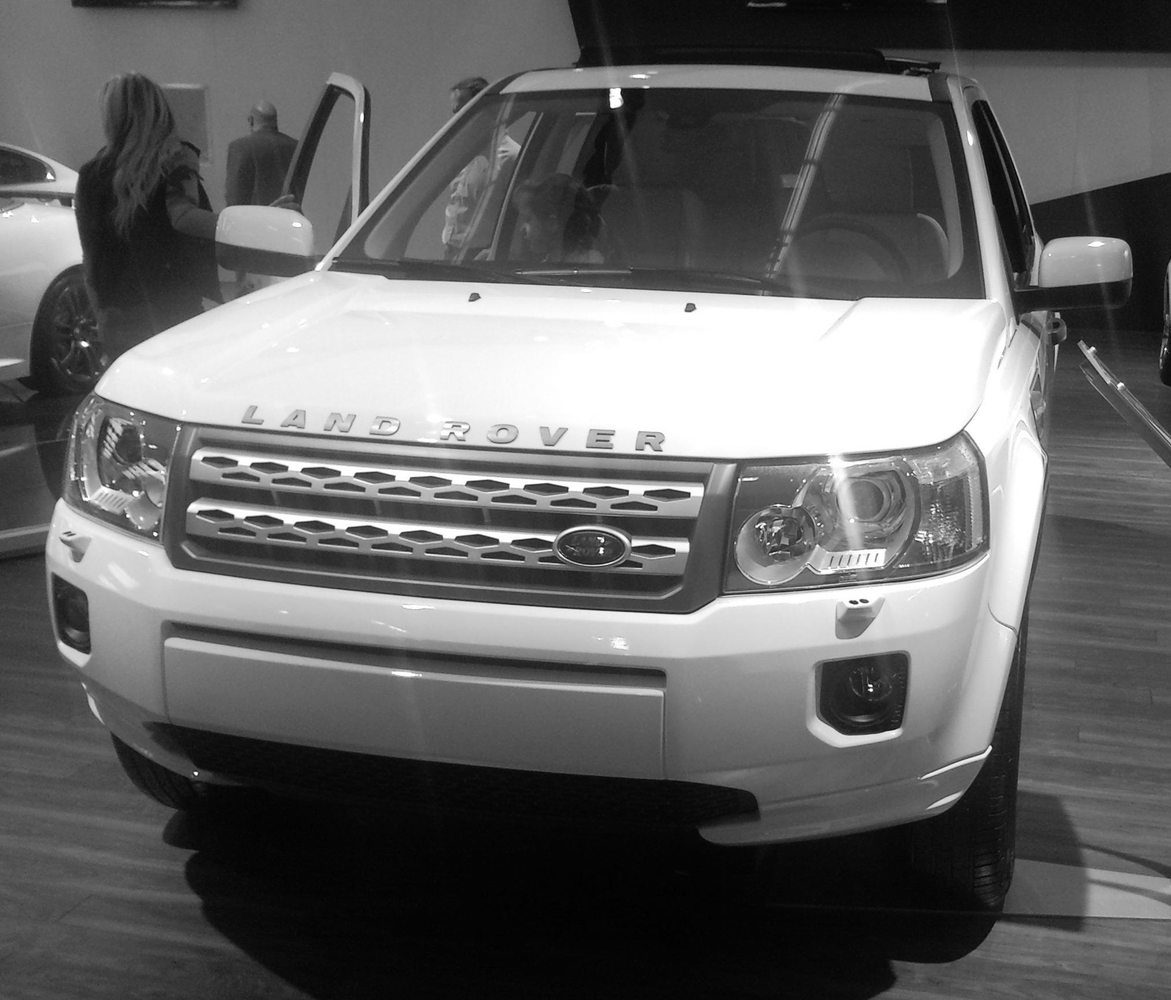car: (33, 53, 1131, 921)
